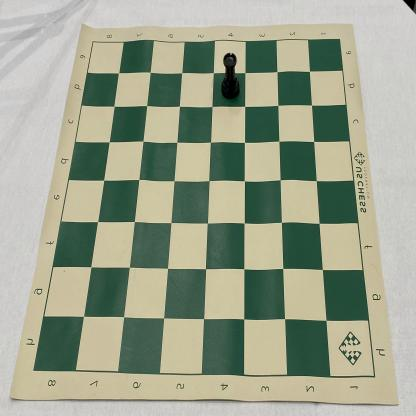black-rook: (222, 52, 240, 100)
